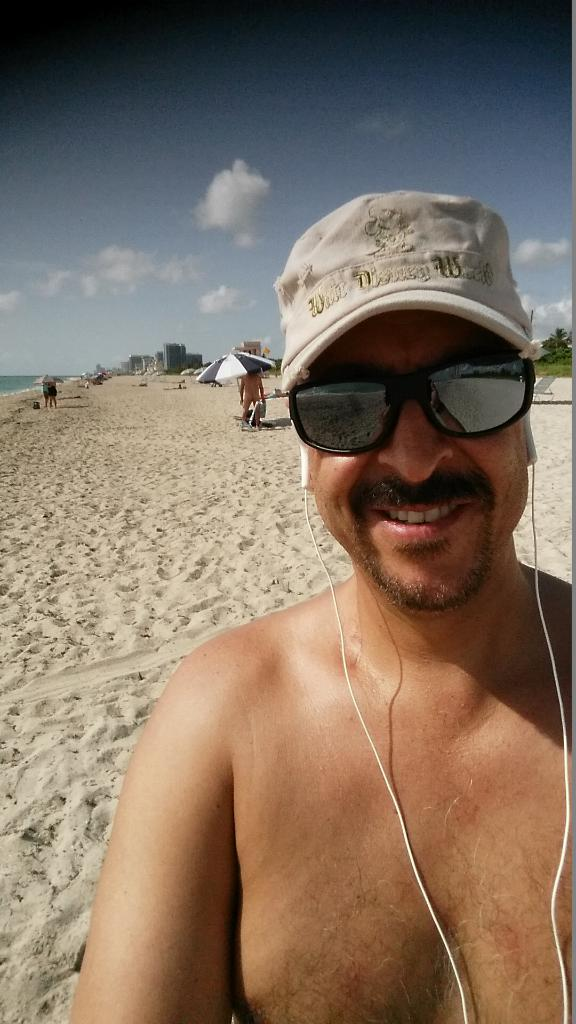Hat: (272, 184, 534, 397)
